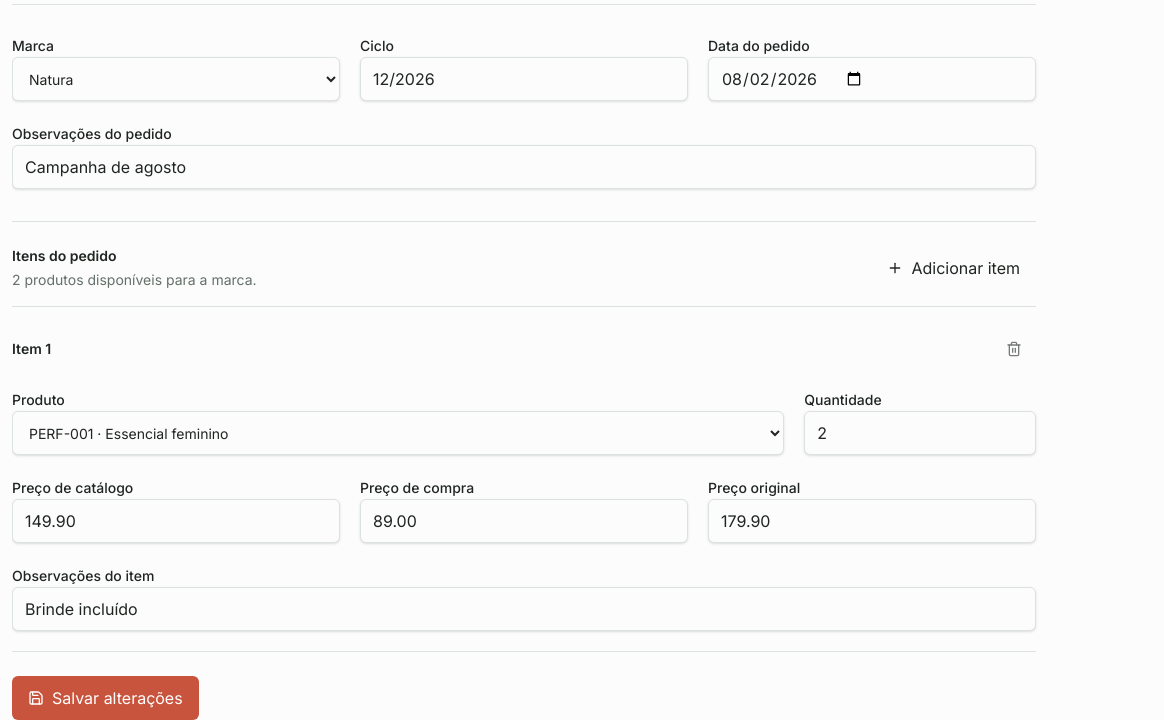
Test: UpdateOrderForm › shows a business error without clearing the order
(page scrolled)
Click the button "Salvar alterações" at (105, 698), box [12, 676, 199, 719]
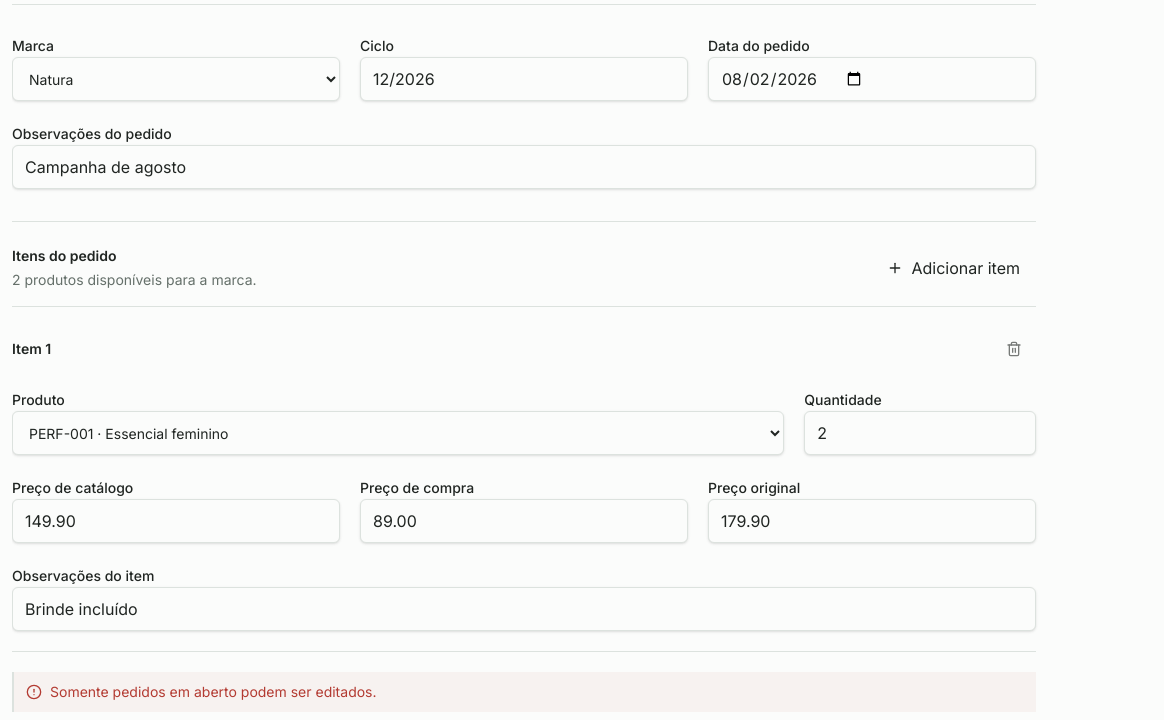
Expected: the field labelled "Ciclo" holds "12/2026", [360, 57, 688, 101]
Result: the message reads "Somente pedidos em aberto podem ser editados." at [50, 683, 376, 700]
